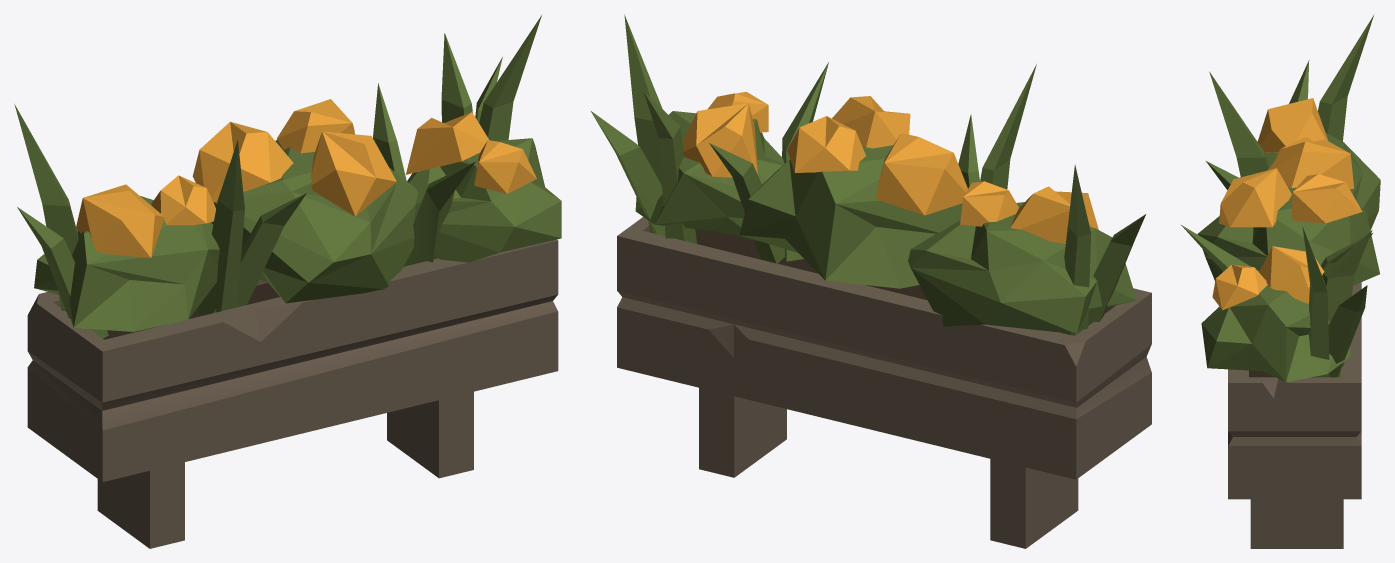
File: Objet2_09.glb
3 views of the same model, side by side, from view 1: azimuth 30°, elevation 25°; view 2: azimuth 150°, elevation 25°; view 3: azimuth 270°, elevation 25° (orthographic). The views are drawn at different scales.
Parts seen in each view (by area): view 1: SM_Prop_PlanterWindow_01; view 2: SM_Prop_PlanterWindow_01; view 3: SM_Prop_PlanterWindow_01.
Part boxes in pixels (x1=…): SM_Prop_PlanterWindow_01: x1=14, y1=15, x2=561, y2=548; SM_Prop_PlanterWindow_01: x1=590, y1=14, x2=1151, y2=548; SM_Prop_PlanterWindow_01: x1=1181, y1=14, x2=1380, y2=548.
Size of the model in its own units: 0.9877 by 0.7433 by 0.3697.
Materials: 1 (1 with a texture image).
